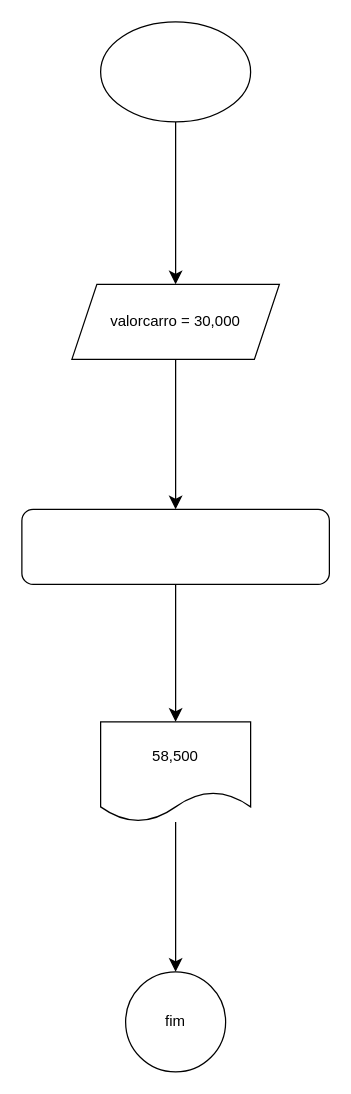
The diagram is 351 pixels wide and 1094 high, and some of its shapes have lost their labels. Each missing label, with the centre of its shape:
imposto = (30,000 *50/100) + 30,000 distribuicao = (45,000 *30/100) + 45,000: the point at 175,546
inicio: the point at 175,71
